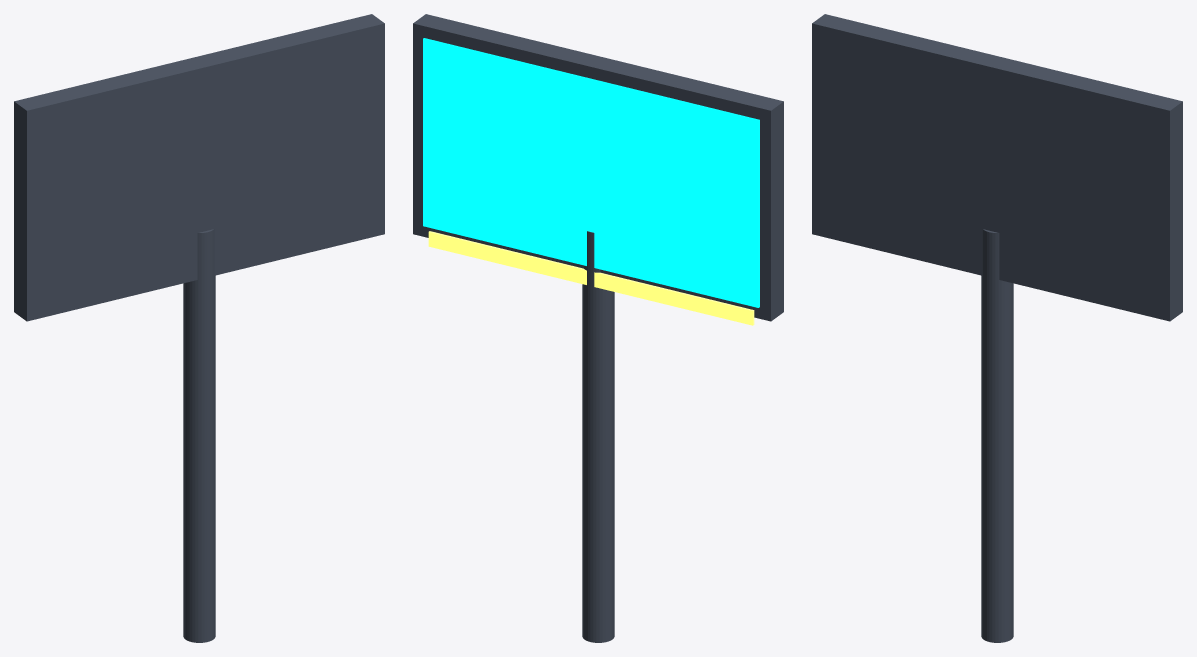
File: billboard.glb
3 renders of one model, left to right at view 1: azimuth 30°, elevation 25°; view 2: azimuth 150°, elevation 25°; view 3: azimuth 330°, elevation 25°, orthographic.
Parts seen in each view (by area): view 1: Prop_Billboard; view 2: Prop_Billboard; view 3: Prop_Billboard.
Part boxes in pixels (x1,y1,x2,y2): Prop_Billboard: [14, 14, 384, 642]; Prop_Billboard: [413, 14, 783, 642]; Prop_Billboard: [812, 14, 1182, 642].
Size of the model in its own units: 6.4 by 9.8 by 0.5.
